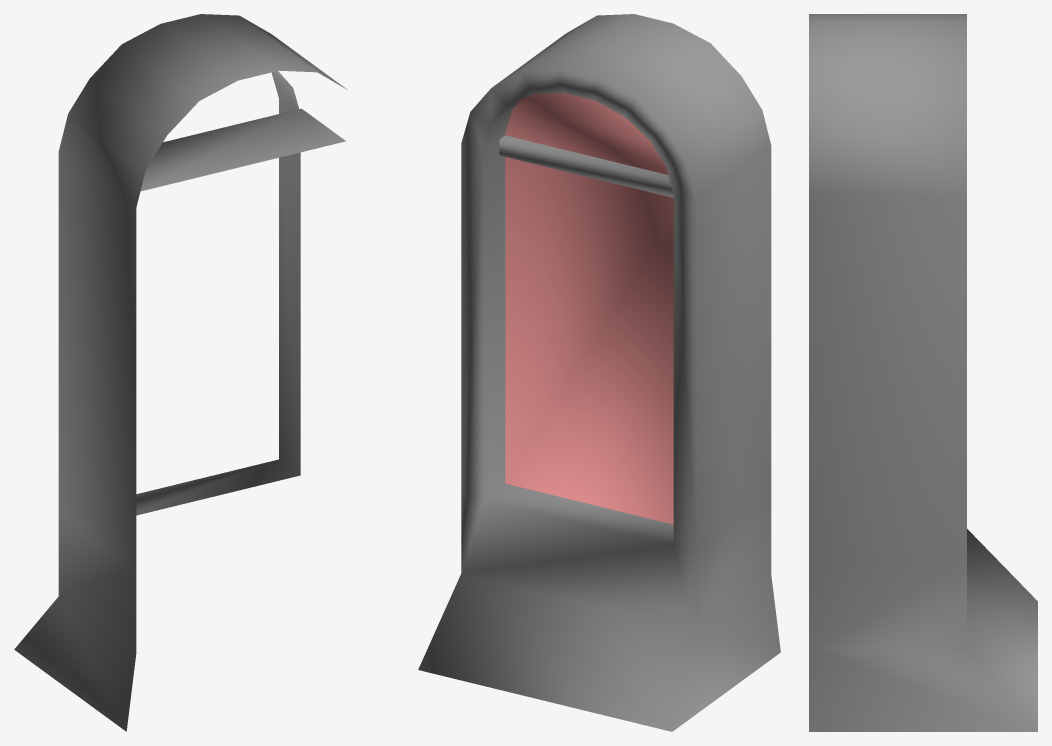
The model's file is tomb_stone.gltf.
3 renders of one model, left to right at view 1: azimuth 30°, elevation 25°; view 2: azimuth 150°, elevation 25°; view 3: azimuth 270°, elevation 25°, orthographic. The views are drawn at different scales.
Parts seen in each view (by area): view 1: tomb_stone; view 2: tomb_stone; view 3: tomb_stone.
Boxes of the visible parts, x1,y1,x2,y2 form: tomb_stone: [14, 14, 347, 731]; tomb_stone: [418, 14, 780, 731]; tomb_stone: [809, 14, 1037, 731].
Bounding box in the file's own units: 1.41 × 3.19 × 1.04.
